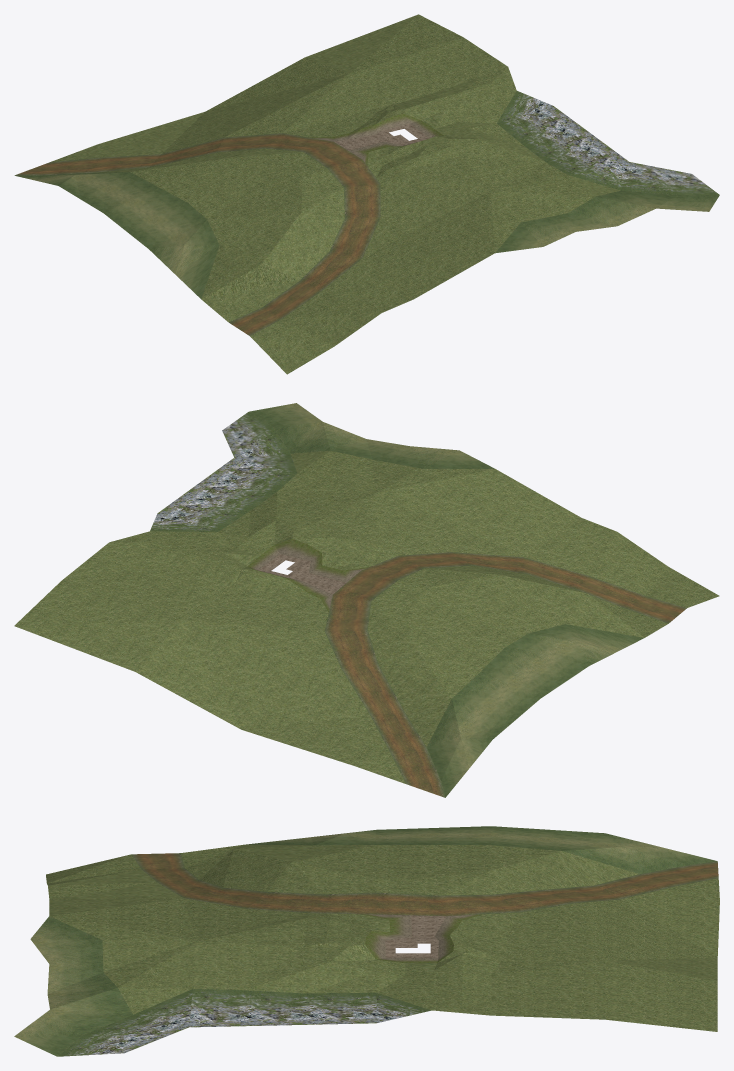
Rendered from cunteground21.obj.
3 views of the same model, one above another, from view 1: azimuth 30°, elevation 25°; view 2: azimuth 150°, elevation 25°; view 3: azimuth 270°, elevation 25° (orthographic). The views are drawn at different scales.
Visible parts, largest first — view 1: cuntEground21; view 2: cuntEground21; view 3: cuntEground21.
Part boxes in pixels (x1,y1,x2,y2): cuntEground21: [14, 14, 719, 374]; cuntEground21: [14, 403, 719, 797]; cuntEground21: [14, 826, 719, 1056].
Size of the model in its own units: 251 by 44.31 by 272.
